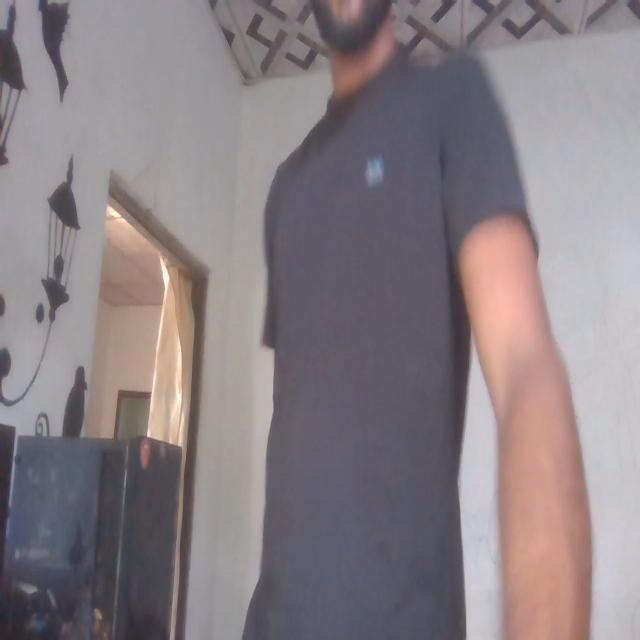Person: (255, 0, 584, 640)
